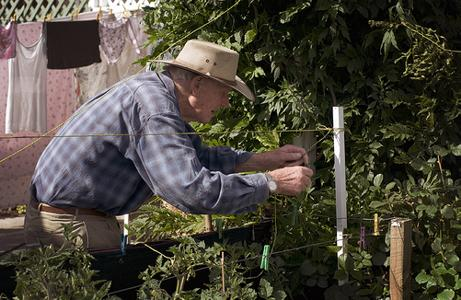person: (22, 40, 315, 251)
